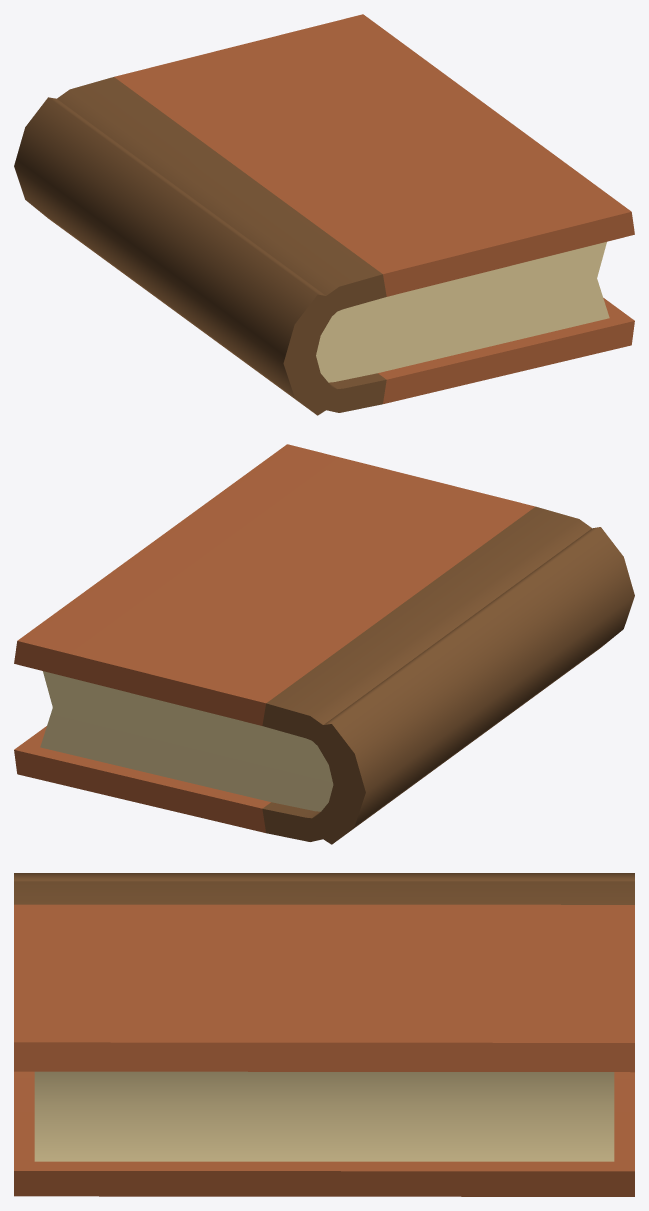
File: Book_D.fbx
3 views of the same model, one above another, from view 1: azimuth 30°, elevation 25°; view 2: azimuth 150°, elevation 25°; view 3: azimuth 270°, elevation 25° (orthographic). The views are drawn at different scales.
Parts seen in each view (by area): view 1: Book_D; view 2: Book_D; view 3: Book_D.
Part boxes in pixels (bbox=[...]): Book_D: bbox=[14, 14, 634, 415]; Book_D: bbox=[14, 444, 634, 844]; Book_D: bbox=[14, 873, 634, 1196].
Size of the model in its own units: 24.02 by 8.71 by 31.81.
